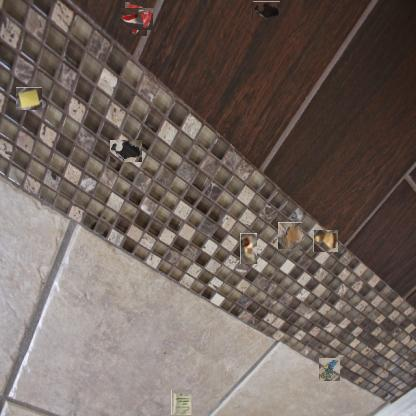dirty: (122, 5, 150, 33), (278, 222, 302, 249), (16, 87, 42, 110), (313, 230, 338, 252), (171, 390, 192, 416), (318, 357, 340, 381), (240, 233, 257, 264)
liquid: (110, 140, 142, 162), (252, 1, 280, 20)
